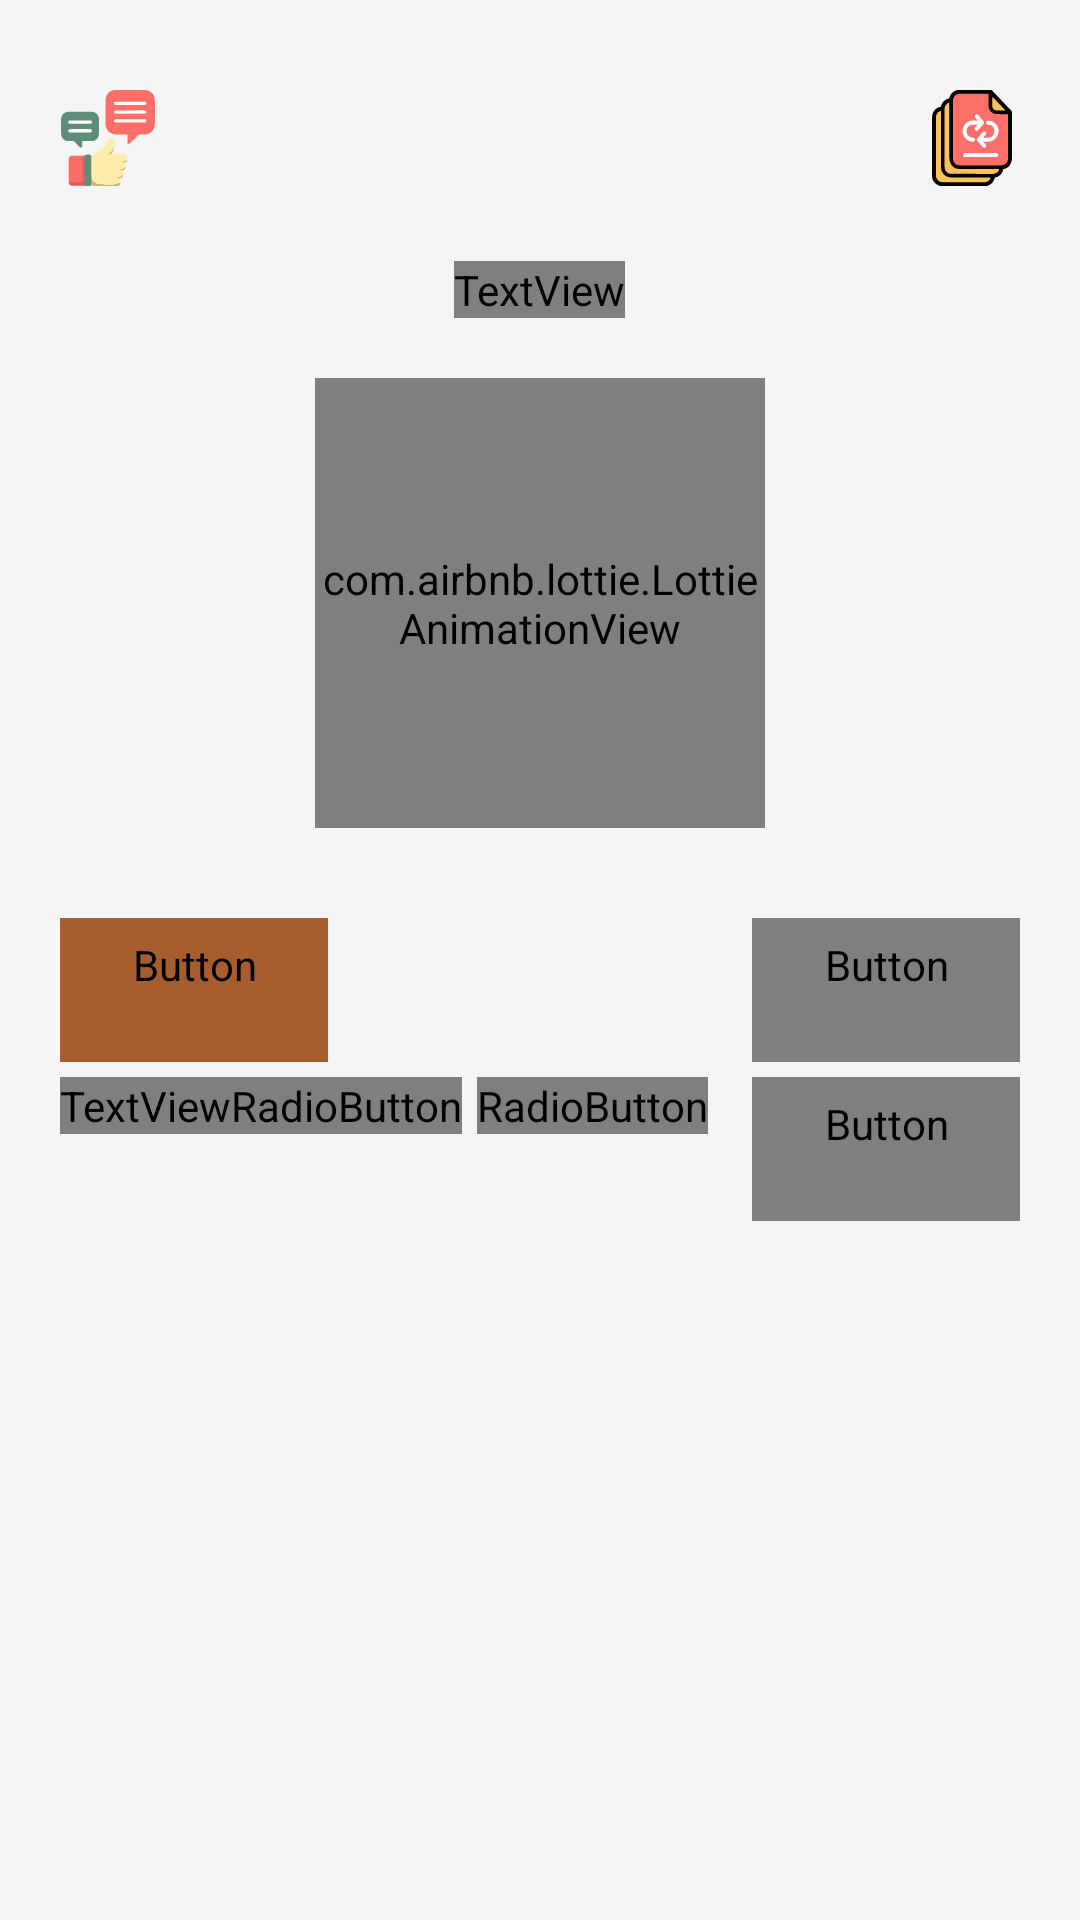

Screen size 1080px×1920px. Icon name, then its center in pixels as (x=x, y=y):
convert: (x=972, y=138)
feedback: (x=108, y=138)
